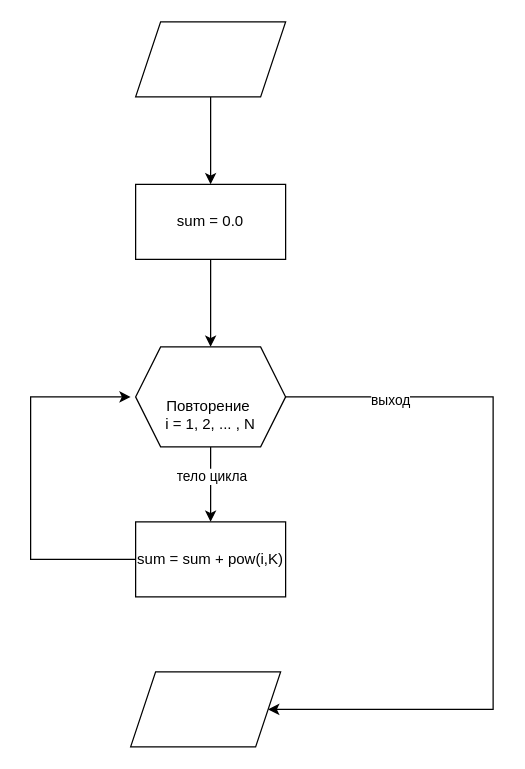
This 525x769 diagram has some shape labels left out. Each missing label, with the centre of its shape:
Ввод: M, K: (x=210, y=59)
Вывод: sum: (x=205, y=709)
